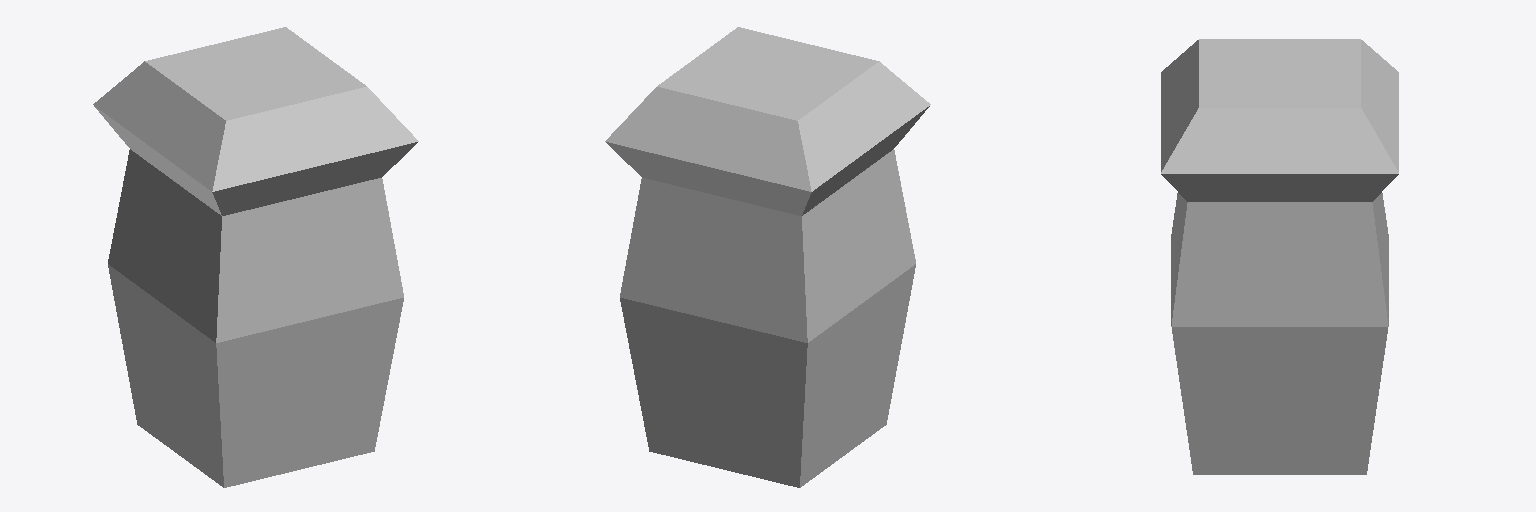
File: small_column.obj
3 views of the same model, side by side, from view 1: azimuth 30°, elevation 25°; view 2: azimuth 150°, elevation 25°; view 3: azimuth 270°, elevation 25° (orthographic).
Parts seen in each view (by area): view 1: cuboid; view 2: cuboid; view 3: cuboid.
Part boxes in pixels (x1,y1,x2,y2): cuboid: (93, 27, 418, 487); cuboid: (605, 27, 930, 487); cuboid: (1161, 39, 1398, 474).
Bounding box in the file's own units: 1.38 × 2.31 × 1.38.